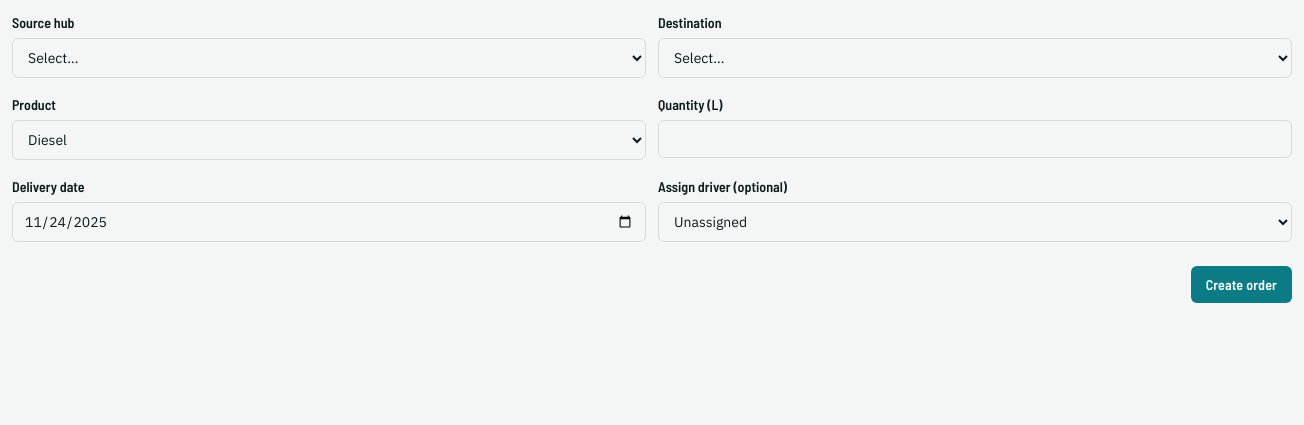
Scenario: OrderForm › surfaces a delivery-date error when the date is cleared
Select "Downtown" in the dropdown labelled "Source hub" at (329, 58), box [12,38,646,78]
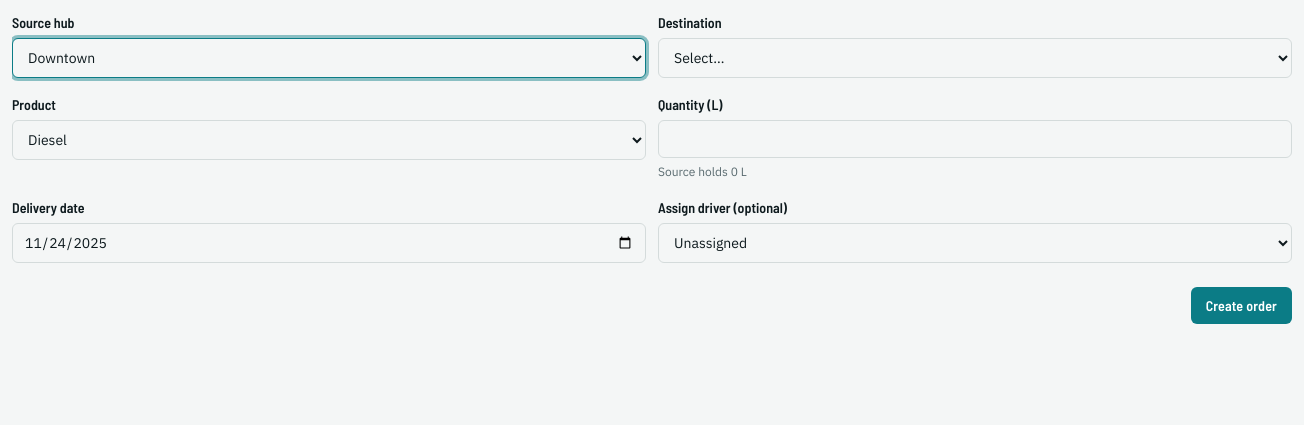
Select "Northgate" in the dropdown labelled "Destination" at (975, 58), box [658,38,1292,78]
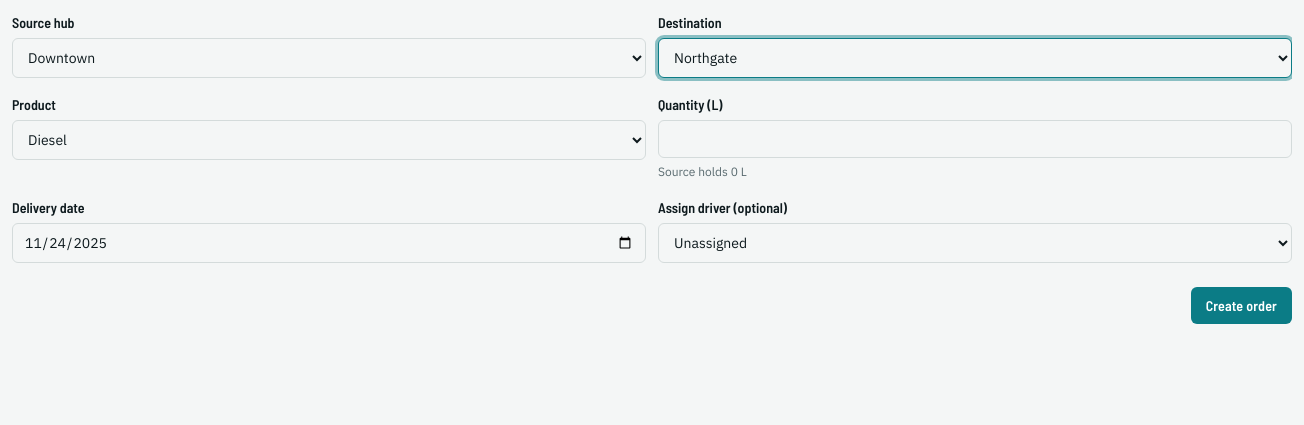
Select "Diesel" in the dropdown labelled "Product" at (329, 140), box [12,120,646,160]
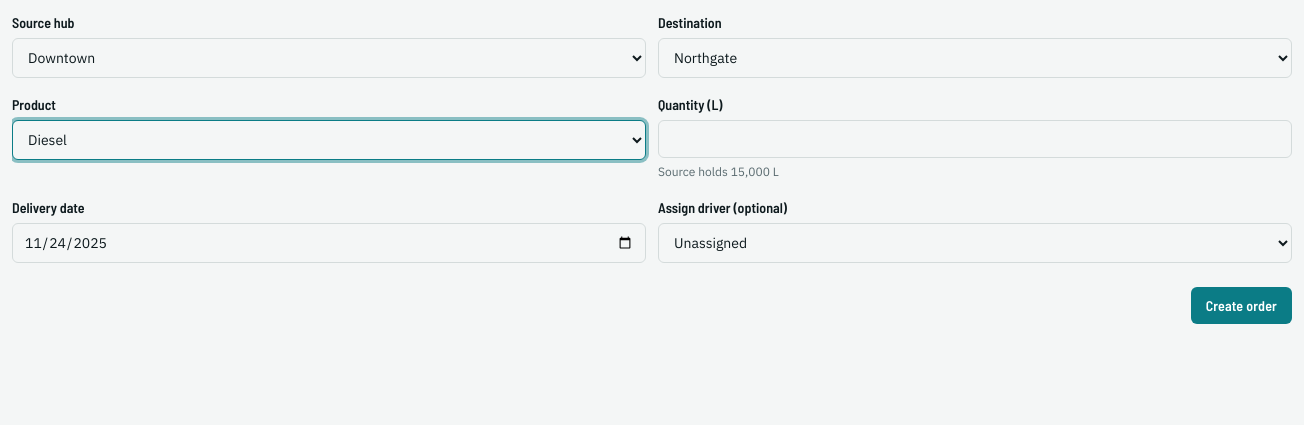
Type "5000" into the number field labelled "Quantity (L) Source holds 15,000 L" at (975, 139), box [658,120,1292,158]
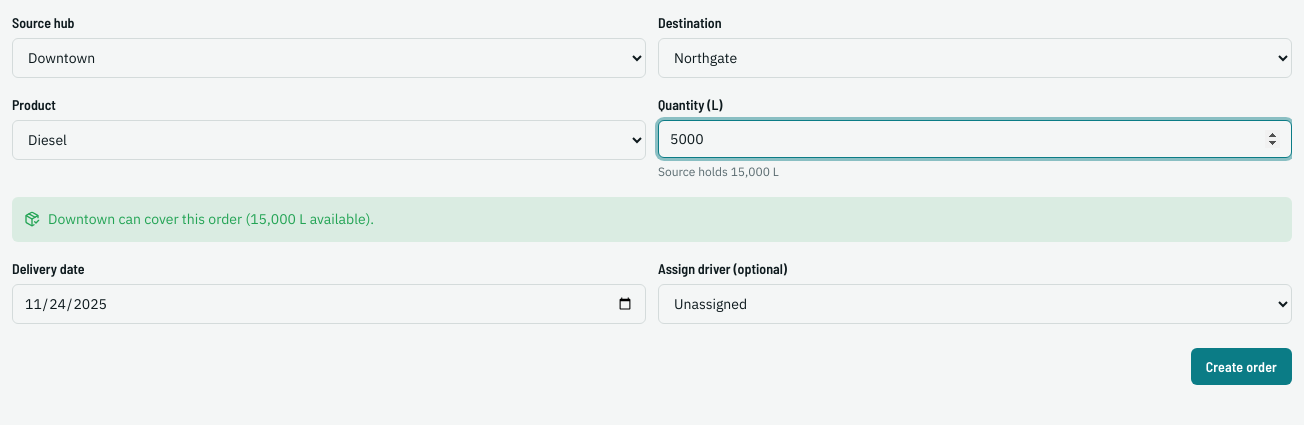
Clear the date field labelled "Delivery date" at (329, 304), box [12,284,646,324]
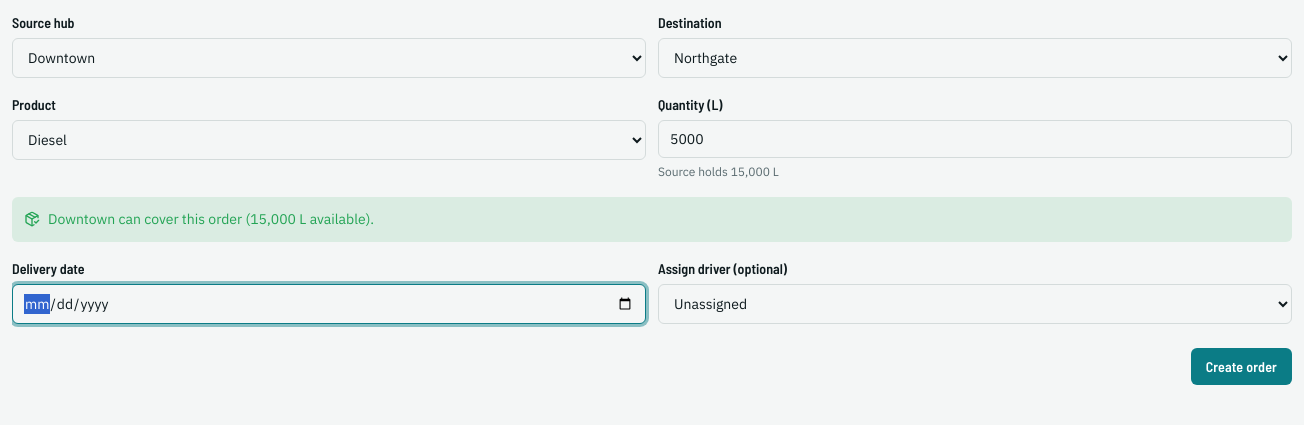
Click the button "Create order" at (1241, 366), box [1191,348,1292,385]
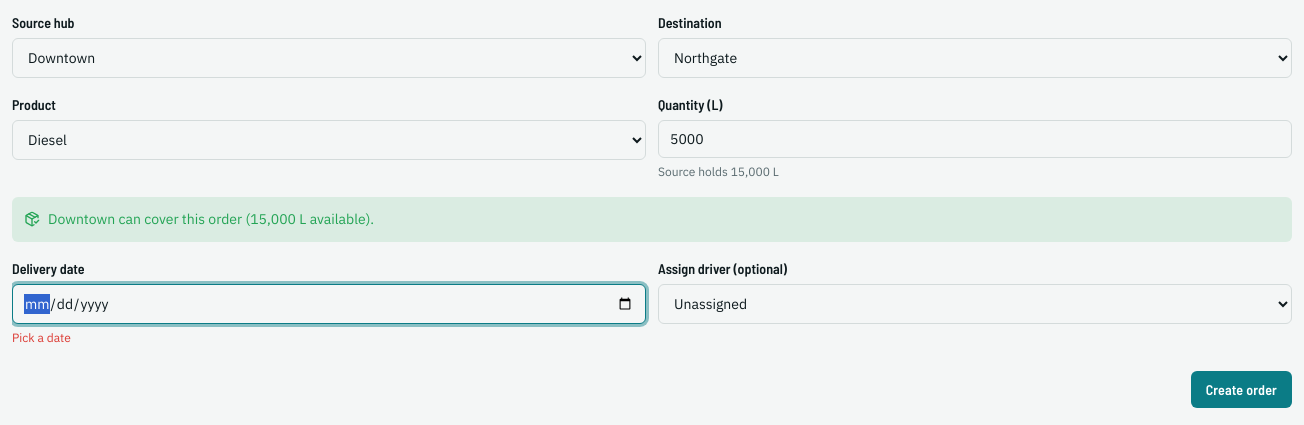
expect the text "Pick a date" is shown: met, box [12,330,71,345]
